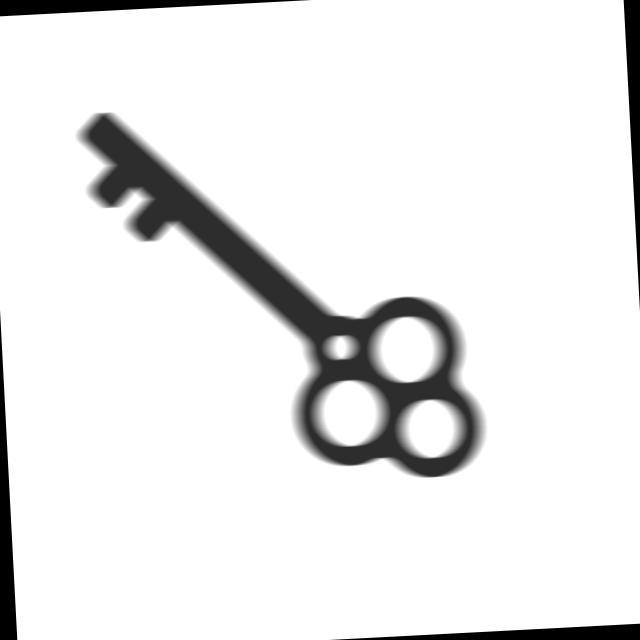key: (66, 85, 497, 505)
